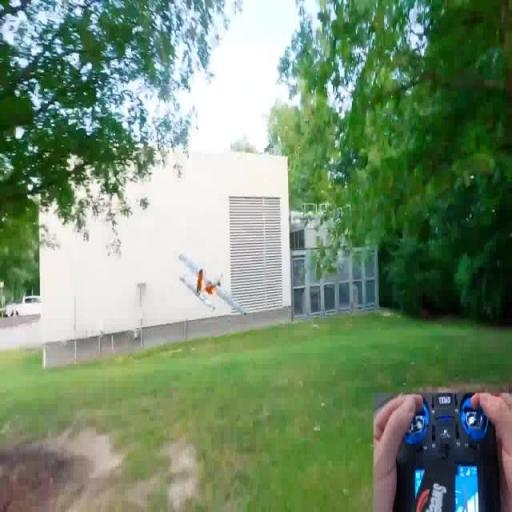uav: (177, 252, 250, 327)
